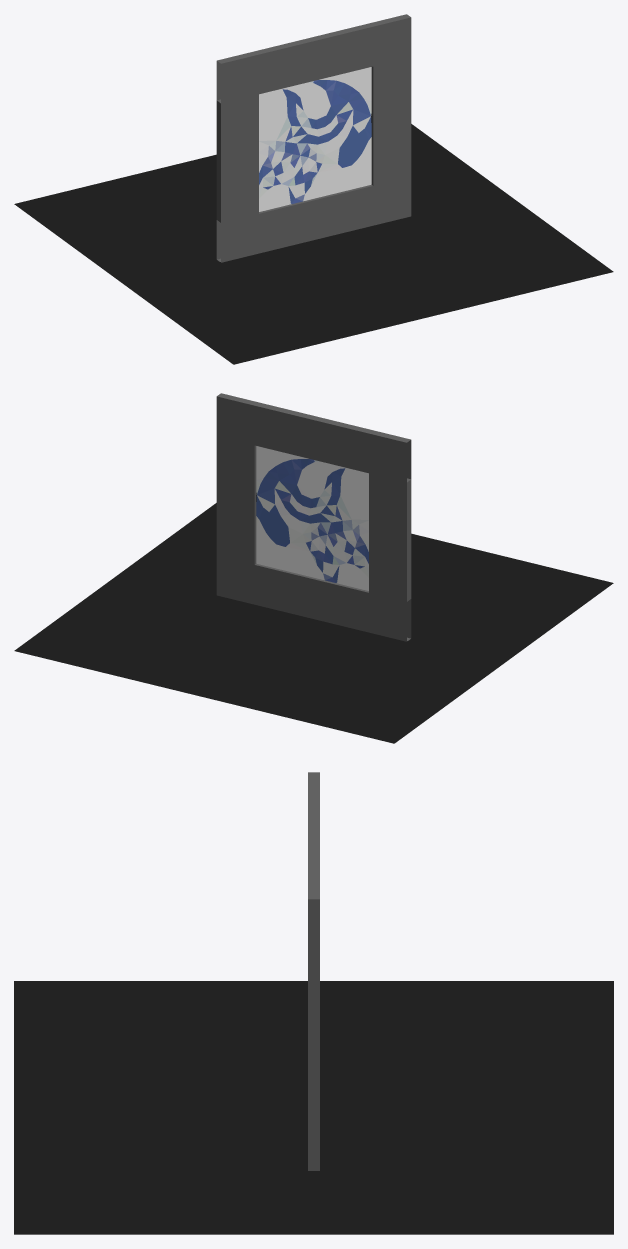
The model's file is StainedGlass.obj.
3 views of the same model, one above another, from view 1: azimuth 30°, elevation 25°; view 2: azimuth 150°, elevation 25°; view 3: azimuth 270°, elevation 25° (orthographic). The views are drawn at different scales.
Bounding box in the file's own units: 20 × 10 × 20.
